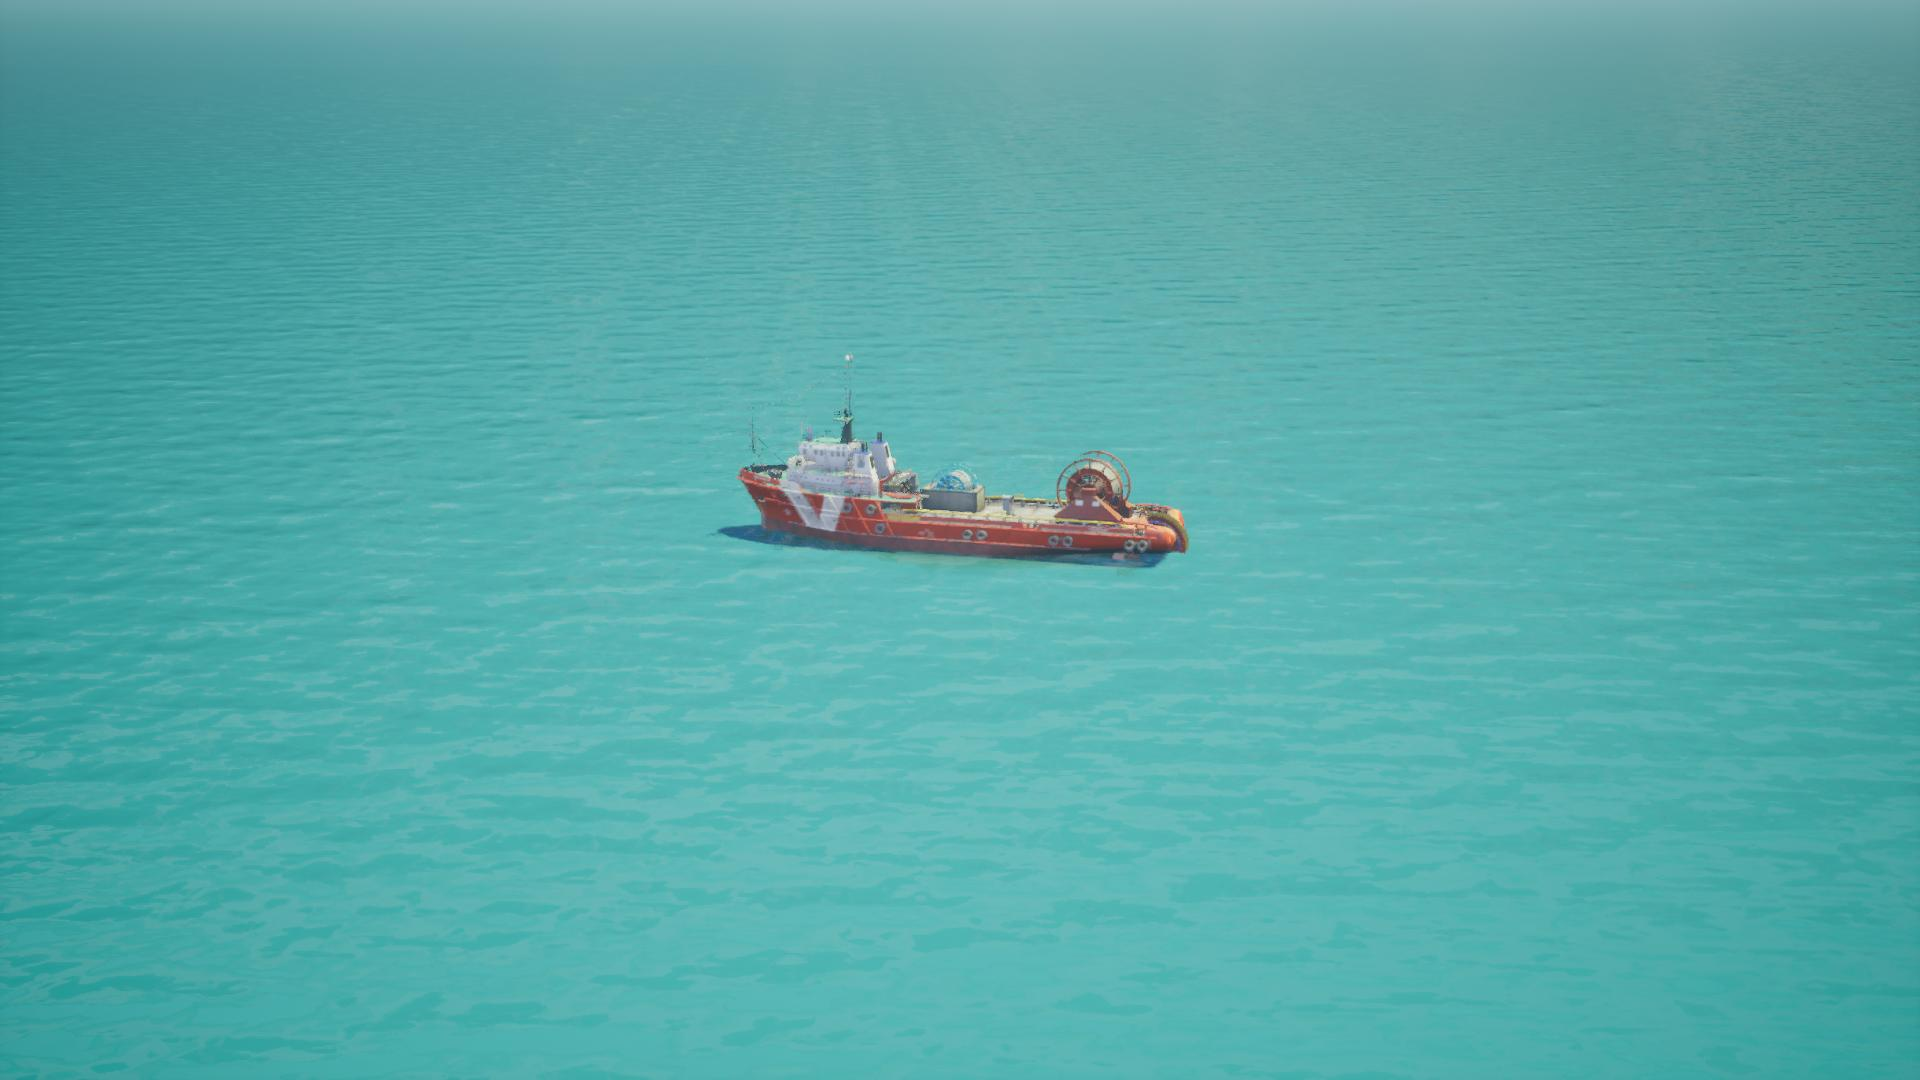Tug Boat: (729, 360, 1195, 574)
